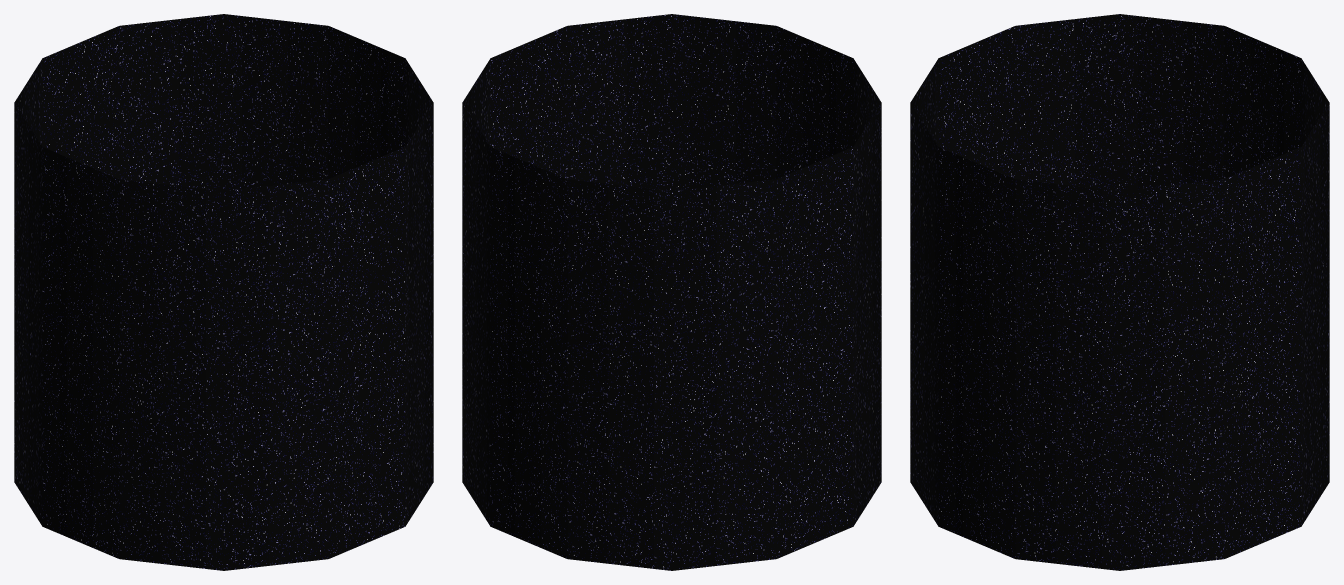
File: StarFieldCylinder.obj
3 views of the same model, side by side, from view 1: azimuth 30°, elevation 25°; view 2: azimuth 150°, elevation 25°; view 3: azimuth 270°, elevation 25° (orthographic).
Visible parts, largest first — view 1: Outer; view 2: Outer; view 3: Outer.
Boxes of the visible parts, x1,y1,x2,y2 form: Outer: [14, 14, 433, 570]; Outer: [462, 14, 881, 570]; Outer: [910, 14, 1329, 570].
Bounding box in the file's own units: 100 × 100 × 100.
